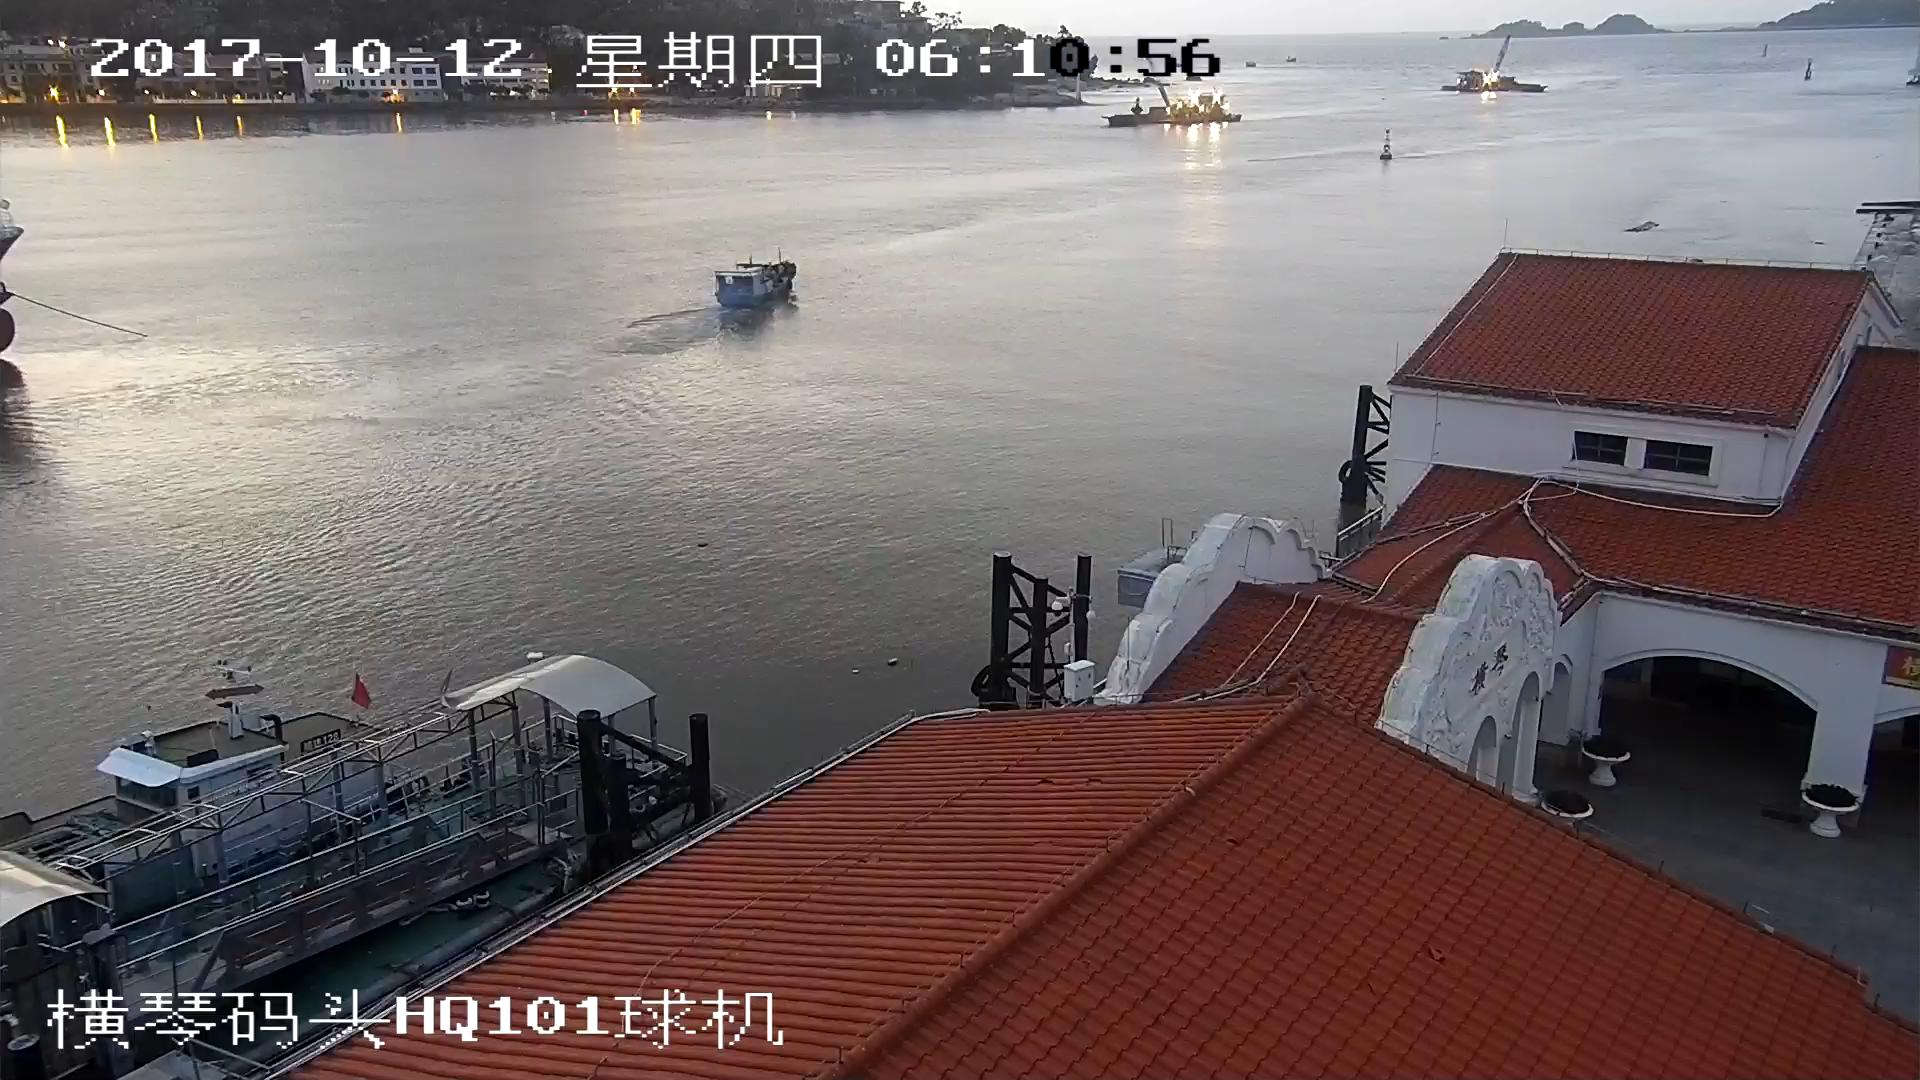fishing boat: (709, 261, 795, 308)
